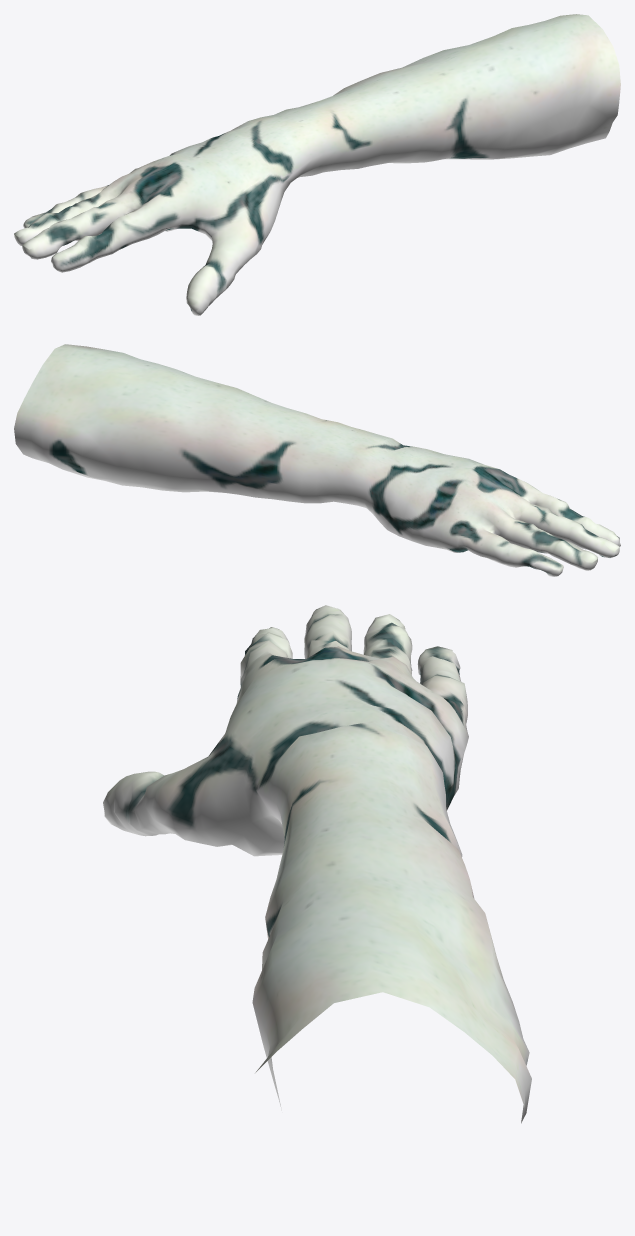
File: Severed_Arm.gltf
3 renders of one model, top to bottom at view 1: azimuth 30°, elevation 25°; view 2: azimuth 150°, elevation 25°; view 3: azimuth 270°, elevation 25°, orthographic. The views are drawn at different scales.
Visible parts, largest first — view 1: Body; view 2: Body; view 3: Body.
Part boxes in pixels (x1,y1,x2,y2): Body: (14,14,620,315); Body: (14,344,620,576); Body: (103,605,531,1123).
Bounding box in the file's own units: 1.39 × 0.3168 × 0.4634.
1 material, 1 textured.
